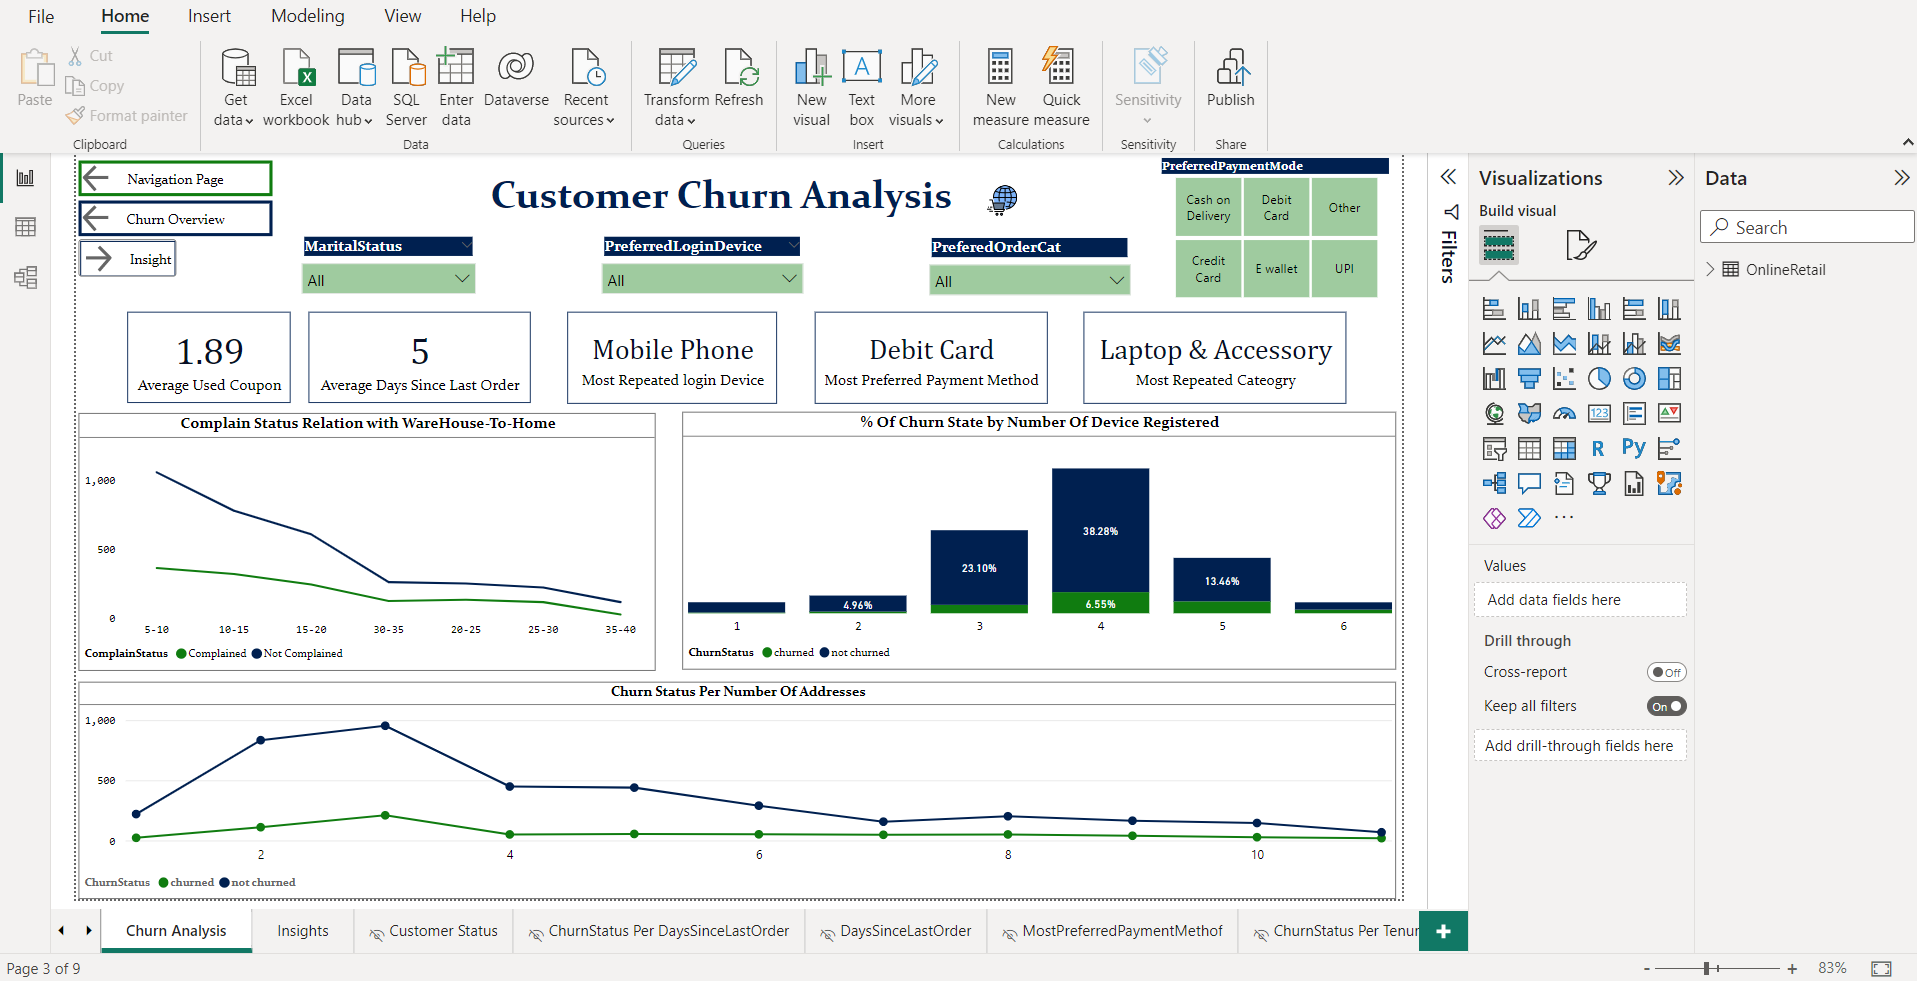

This screenshot's page, from the dashboard's own definition file:
{"tool":"powerbi","page":{"name":"Churn Analysis","canvas":[1280,720],"ordinal":2},"visuals":[{"type":"lineChart","title":"Complain Status Relation with WareHouse-To-Home","fields":{"Series":["OnlineRetail.ComplainStatus"],"Category":["OnlineRetail.WareHouseToHome Bins"],"Y":["CountNonNull(OnlineRetail.Churn)"]},"box":[2.4,250.9,557.2,248.4],"z":0},{"type":"actionButton","box":[2.6,7.7,187.3,34.6],"z":1000},{"type":"actionButton","box":[2.6,46.2,187.3,34.6],"z":2000},{"type":"columnChart","title":"% Of Churn State by Number Of Device Registered ","fields":{"Category":["OnlineRetail.NumberOfDeviceRegistered"],"Series":["OnlineRetail.ChurnStatus"],"Y":["Divide(CountNonNull(OnlineRetail.CustomerID), ScopedEval(CountNonNull(OnlineRetail.CustomerID), []))"]},"box":[584.9,249.6,688.6,248.4],"z":3000},{"type":"card","title":"Average Cashback Amount","fields":{"Values":["OnlineRetail.Average Copun"]},"box":[49.4,153.2,158,88],"z":4000},{"type":"card","title":"Average Cashback Amount","fields":{"Values":["OnlineRetail.Average DaysSinceLastOrder"]},"box":[224.3,153.2,214.7,88],"z":5000},{"type":"card","title":"Average Cashback Amount","fields":{"Values":["OnlineRetail.MostRepeatedDivision"]},"box":[712.5,152.8,224.4,88.5],"z":6000},{"type":"card","title":"Average Cashback Amount","fields":{"Values":["OnlineRetail.MostRepeatedCat"]},"box":[972.2,152.8,253.9,88.5],"z":7000},{"type":"card","title":"Average Cashback Amount","fields":{"Values":["OnlineRetail.MostRepeatedloginDevice"]},"box":[474.5,152.8,202.6,88.5],"z":8000},{"type":"slicer","fields":{"Values":["OnlineRetail.PreferredPaymentMode"]},"box":[1035,0,245,146.2],"z":9000},{"type":"textbox","box":[224.4,12.8,796.5,57.7],"z":10000},{"type":"image","box":[851.6,25.7,83.4,41],"z":11000},{"type":"lineChart","title":"Churn Status Per Number Of Addresses","fields":{"Category":["OnlineRetail.NumberOfAddress"],"Series":["OnlineRetail.ChurnStatus"],"Y":["CountNonNull(OnlineRetail.CustomerID)"]},"box":[2.4,510.2,1271.2,209.8],"z":12000},{"type":"slicer","fields":{"Values":["OnlineRetail.MaritalStatus"]},"box":[207.2,75.8,188.5,66.7],"z":13000},{"type":"slicer","fields":{"Values":["OnlineRetail.PreferredLoginDevice"]},"box":[497,76,214.7,66.3],"z":14000},{"type":"slicer","fields":{"Values":["OnlineRetail.PreferedOrderCat"]},"box":[812.9,77.2,214.7,66.3],"z":15000},{"type":"actionButton","box":[2.4,83.2,94.1,36.2],"z":16000}]}

Visuals, with their boxes on the page's 1280x720 design canvas (x1, y1, x2, y2). These are canvas units, not pixel positions in the 1917x981 screenshot, which may show the page scaled, cropped or inside an application window:
"Complain Status Relation with WareHouse-To-Home" lineChart: (left=2, top=251, right=560, bottom=499)
actionButton: (left=3, top=8, right=190, bottom=42)
actionButton: (left=3, top=46, right=190, bottom=81)
"% Of Churn State by Number Of Device Registered " columnChart: (left=585, top=250, right=1274, bottom=498)
"Average Cashback Amount" card: (left=49, top=153, right=207, bottom=241)
"Average Cashback Amount" card: (left=224, top=153, right=439, bottom=241)
"Average Cashback Amount" card: (left=712, top=153, right=937, bottom=241)
"Average Cashback Amount" card: (left=972, top=153, right=1226, bottom=241)
"Average Cashback Amount" card: (left=474, top=153, right=677, bottom=241)
slicer - OnlineRetail.PreferredPaymentMode: (left=1035, top=0, right=1280, bottom=146)
textbox: (left=224, top=13, right=1021, bottom=70)
image: (left=852, top=26, right=935, bottom=67)
"Churn Status Per Number Of Addresses" lineChart: (left=2, top=510, right=1274, bottom=720)
slicer - OnlineRetail.MaritalStatus: (left=207, top=76, right=396, bottom=142)
slicer - OnlineRetail.PreferredLoginDevice: (left=497, top=76, right=712, bottom=142)
slicer - OnlineRetail.PreferedOrderCat: (left=813, top=77, right=1028, bottom=144)
actionButton: (left=2, top=83, right=96, bottom=119)
